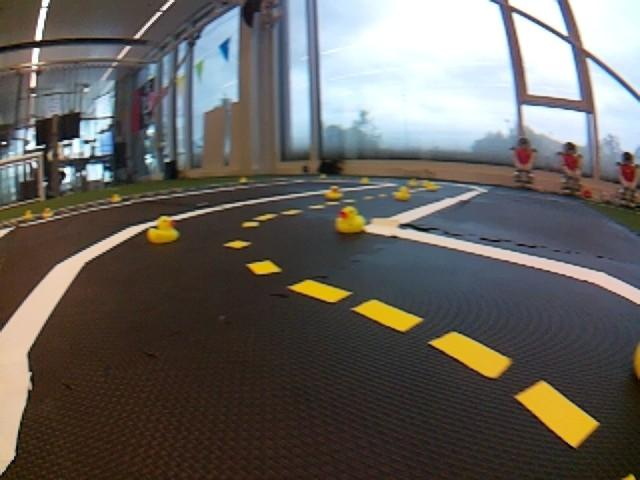Duckies: (145, 216, 180, 245), (334, 206, 368, 233), (324, 185, 344, 200), (393, 185, 411, 201), (40, 208, 52, 218), (22, 212, 34, 220), (427, 183, 440, 189), (111, 194, 122, 201), (359, 177, 370, 184), (421, 180, 429, 188), (240, 176, 249, 183), (408, 180, 418, 186), (319, 174, 328, 179)
